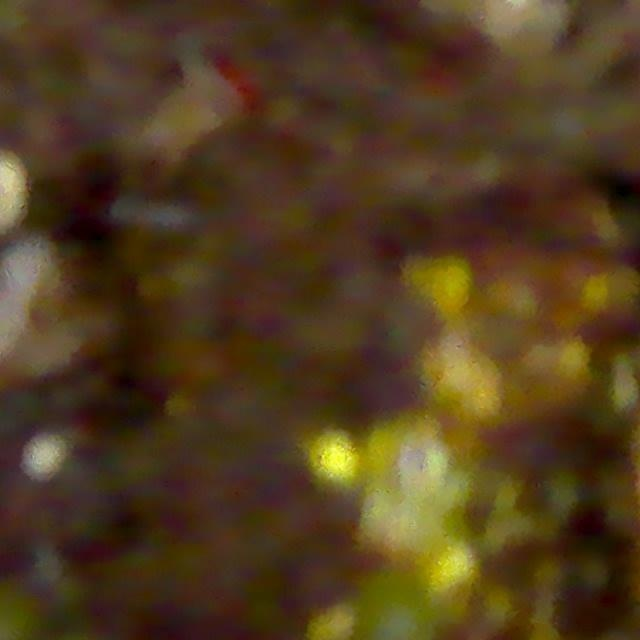SeaGrape: (360, 588, 440, 640), (260, 91, 304, 136)
